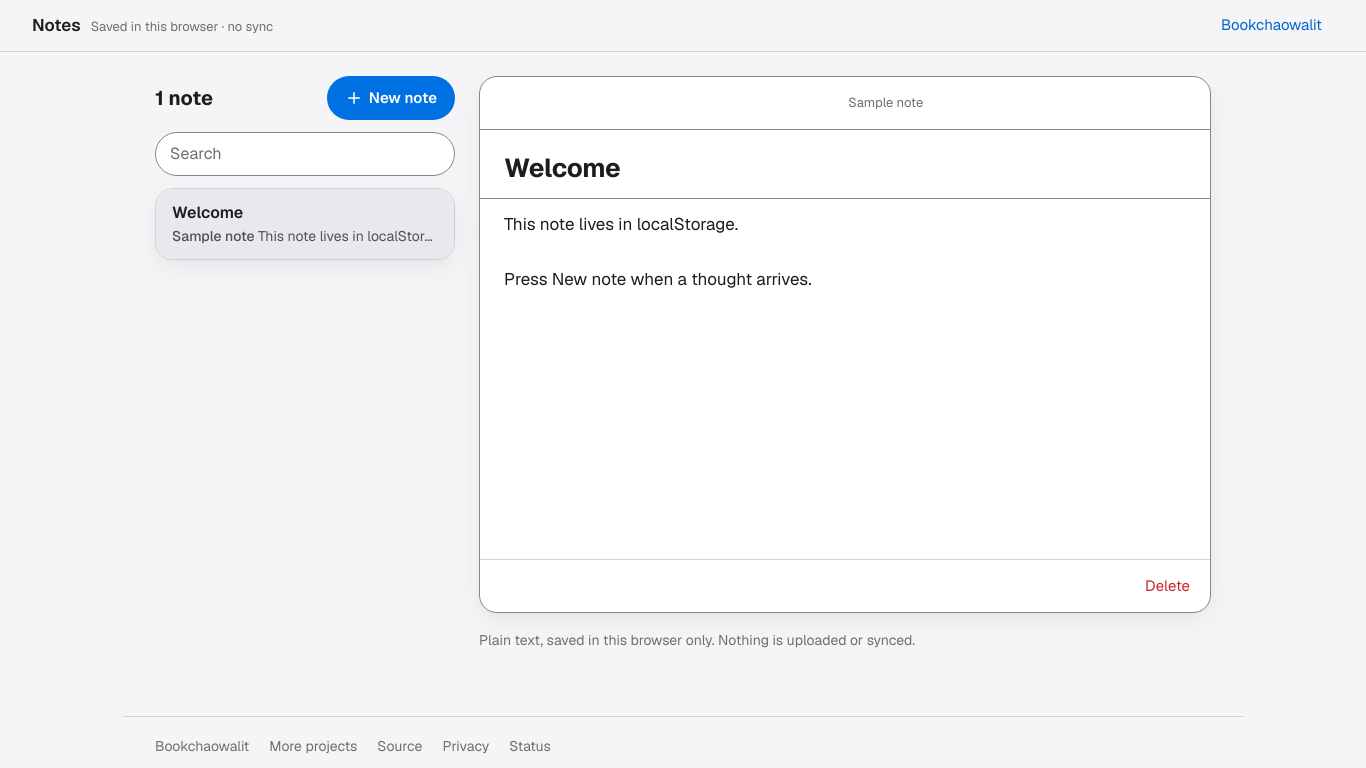
Test: review 2026-11-18 › the toast has a visible 44px close button that dismisses it and keeps the delete
The image size is (1366, 768).
Click the button "Delete" at (1168,586), box [1133,564,1202,608]
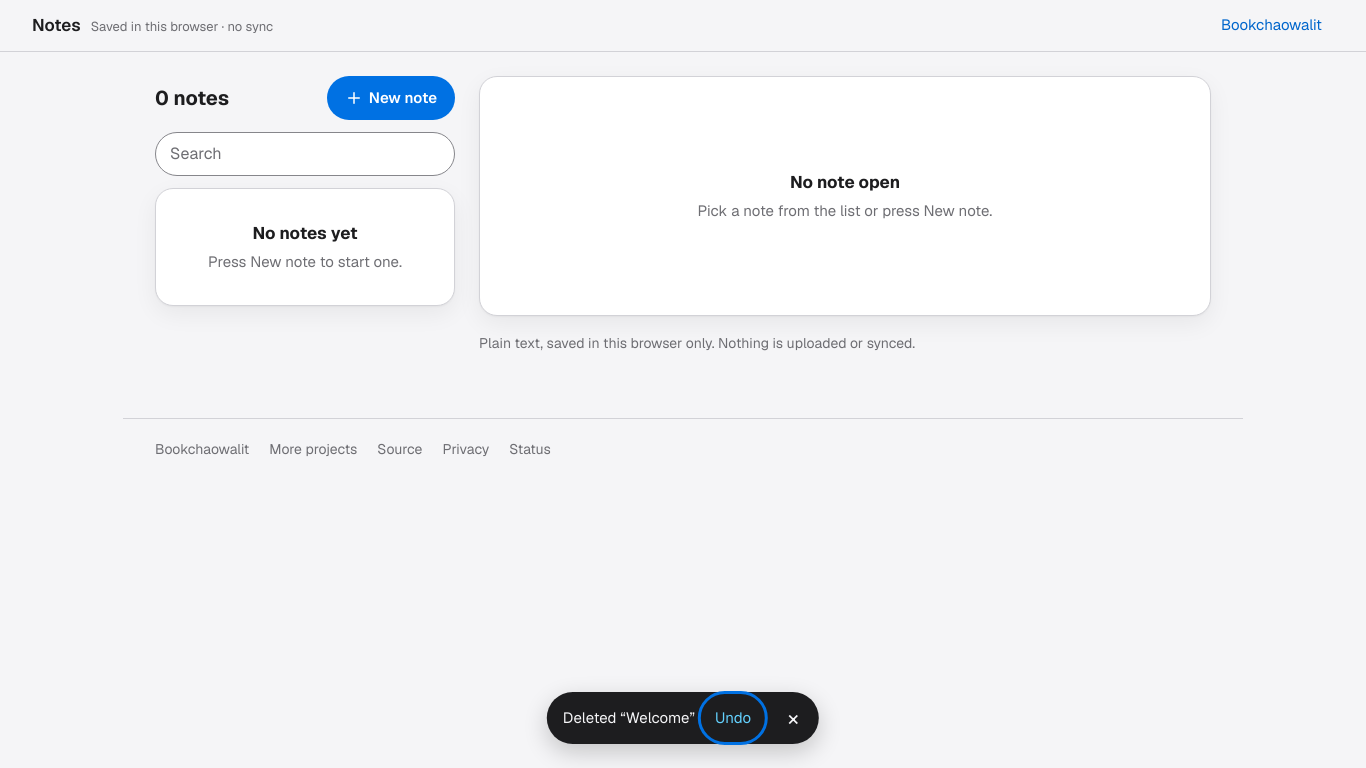
Click the button named "Dismiss" at (793,718), box [771,696,815,740]
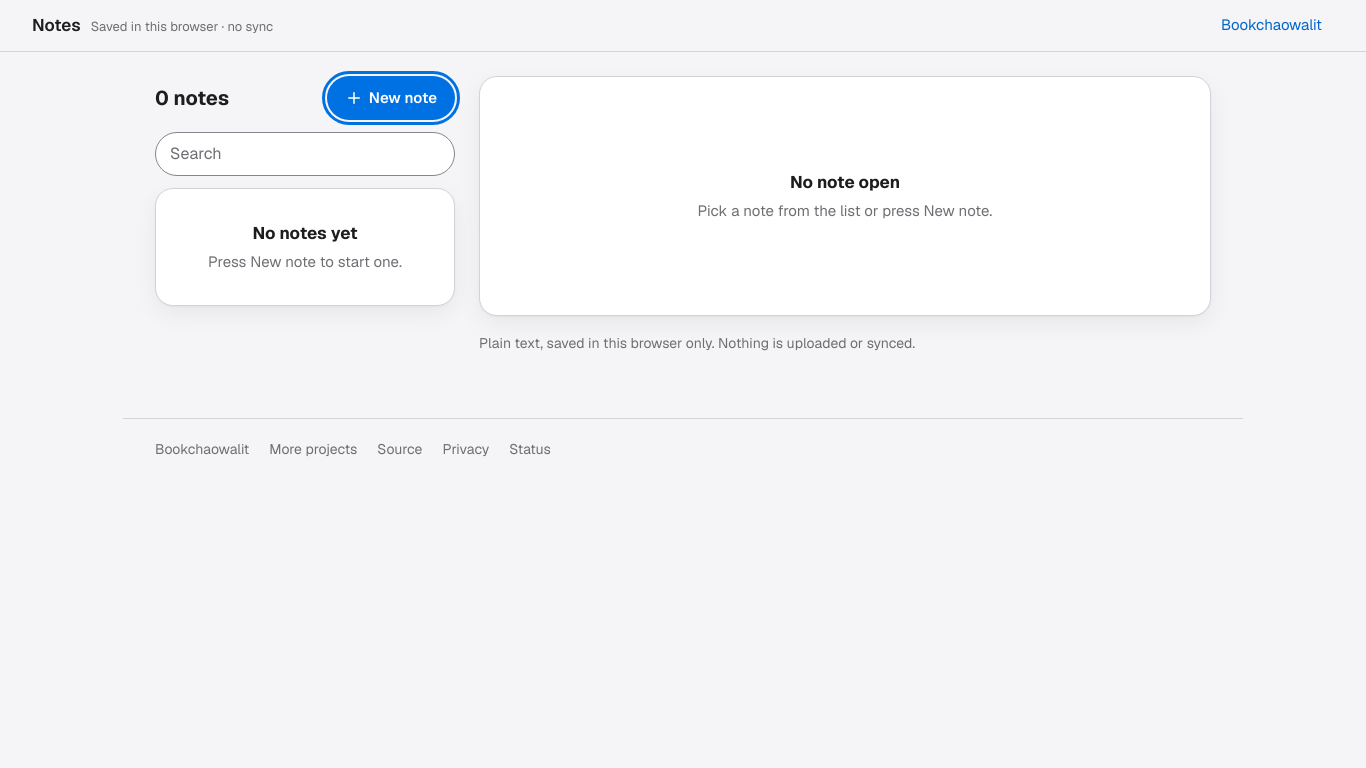
Result: the element with class "as-toast" is gone
